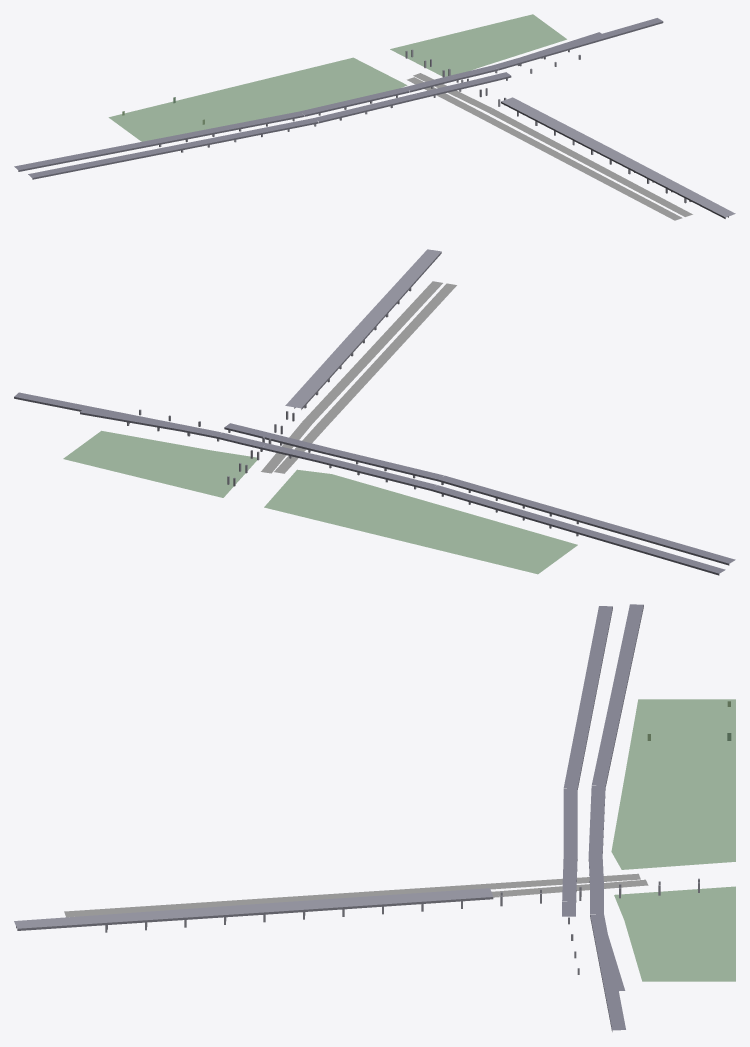
The picture shows the model from 3 angles, top to bottom: view 1: azimuth 30°, elevation 25°; view 2: azimuth 150°, elevation 25°; view 3: azimuth 270°, elevation 25°; orthographic projection. The views are drawn at different scales.
Size of the model in its own units: 752 by 10.37 by 542.
